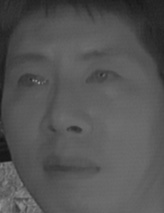eye: (14, 69, 51, 96), (86, 66, 124, 90)
mouth: (41, 149, 102, 185)
